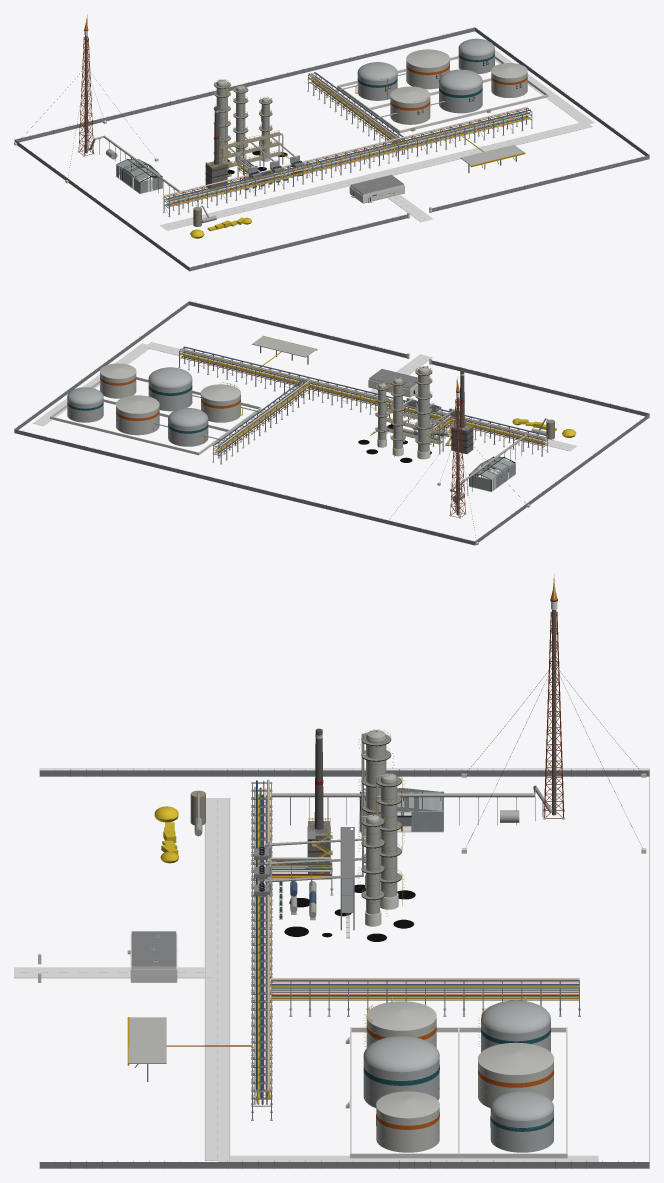
File: refinery.glb
The picture shows the model from 3 angles, top to bottom: view 1: azimuth 30°, elevation 25°; view 2: azimuth 150°, elevation 25°; view 3: azimuth 270°, elevation 25°; orthographic projection. The views are drawn at different scales.
Parts seen in each view (by area): view 1: C-1_-1_lod0, C1_0_lod0, C0_-1_lod0, C1_1_lod0, C-2_0_lod0, C-2_-1_lod0, C2_0_lod0, C0_2_lod0, C1_-2_lod0, C0_0_lod0, C-3_0_lod0, C-3_1_lod0 (+9 smaller); view 2: C-1_-1_lod0, C1_1_lod0, C1_0_lod0, C-2_0_lod0, C0_2_lod0, C2_0_lod0, C-2_-1_lod0, C1_-2_lod0, C0_0_lod0, C0_-1_lod0, C-3_0_lod0, C-3_1_lod0 (+9 smaller); view 3: C0_-1_lod0, C0_0_lod0, C1_0_lod0, C1_1_lod0, C-1_-1_lod0, C2_0_lod0, C-2_0_lod0, C-4_0_lod0, C-2_-1_lod0, C3_0_lod0, C2_1_lod0, C-3_0_lod0 (+6 smaller).
Boxes of the visible parts, <box> form: C-1_-1_lod0: <box>164,97,531,206</box>; C1_0_lod0: <box>368,69,548,133</box>; C0_-1_lod0: <box>160,121,592,230</box>; C1_1_lod0: <box>336,49,458,100</box>; C-2_0_lod0: <box>154,79,282,174</box>; C-2_-1_lod0: <box>201,80,292,213</box>; C2_0_lod0: <box>483,50,594,124</box>; C0_2_lod0: <box>15,27,474,142</box>; C1_-2_lod0: <box>432,136,649,212</box>; C0_0_lod0: <box>308,72,403,144</box>; C-3_0_lod0: <box>89,135,180,193</box>; C-3_1_lod0: <box>20,14,150,177</box>; C-1_-1_lod0: <box>179,346,547,446</box>; C1_1_lod0: <box>50,395,229,454</box>; C1_0_lod0: <box>103,367,262,432</box>; C-2_0_lod0: <box>386,366,442,485</box>; C0_2_lod0: <box>14,429,474,545</box>; C2_0_lod0: <box>33,343,150,426</box>; C-2_-1_lod0: <box>386,366,511,454</box>; C1_-2_lod0: <box>189,301,406,369</box>; C0_0_lod0: <box>198,380,309,455</box>; C0_-1_lod0: <box>144,342,576,451</box>; C-3_0_lod0: <box>450,434,527,510</box>; C-3_1_lod0: <box>389,376,525,539</box>; C0_-1_lod0: <box>197,798,330,1160</box>; C0_0_lod0: <box>271,978,579,1032</box>; C1_0_lod0: <box>345,996,487,1158</box>; C1_1_lod0: <box>477,996,567,1158</box>; C-1_-1_lod0: <box>217,779,372,1104</box>; C2_0_lod0: <box>217,1091,598,1161</box>; C-2_0_lod0: <box>265,729,466,912</box>; C-4_0_lod0: <box>39,768,649,777</box>; C-2_-1_lod0: <box>217,728,375,908</box>; C3_0_lod0: <box>39,1161,649,1168</box>; C2_1_lod0: <box>490,1091,554,1152</box>; C-3_0_lod0: <box>271,785,552,832</box>.
Size of what is drawn, in the model's own units: 293 by 86 by 200.
